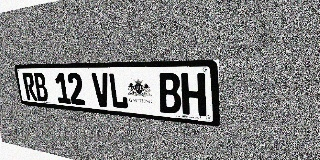1: (53, 73, 71, 104)
2: (67, 73, 85, 105)
B: (157, 73, 182, 114), (33, 73, 49, 102)
H: (181, 73, 206, 117)
L: (108, 73, 129, 109)
R: (22, 73, 38, 101)
V: (91, 73, 111, 108)
